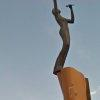Statue: (35, 5, 80, 77)
